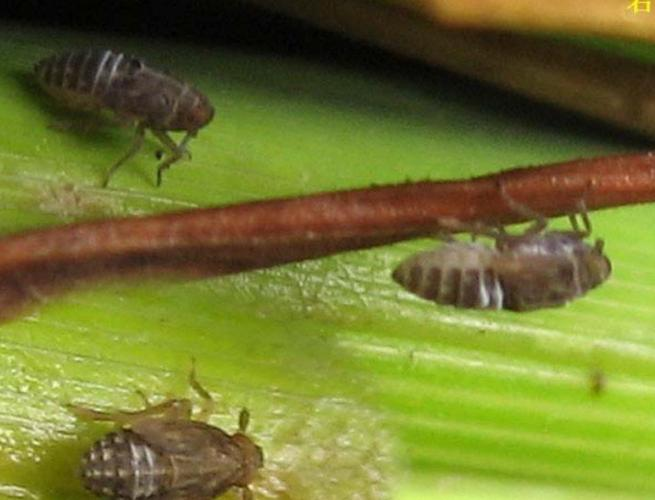Delphacidae: (61, 357, 266, 500), (390, 183, 612, 314), (29, 49, 216, 187)
